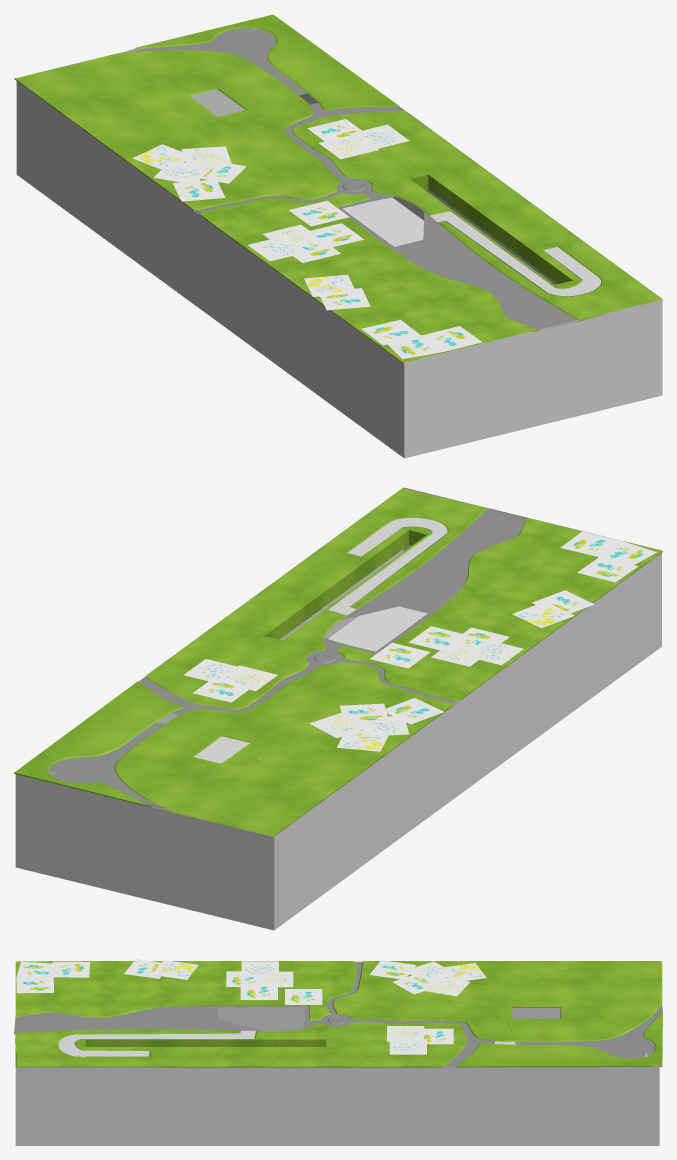
Rendered from Coaster1Ground.FBX.
3 renders of one model, top to bottom at view 1: azimuth 30°, elevation 25°; view 2: azimuth 150°, elevation 25°; view 3: azimuth 270°, elevation 25°, orthographic. The views are drawn at different scales.
Parts seen in each view (by area): view 1: clipping box, Grass3_1, Grass2_1, Grass1_1, MainPath001, Grass4_1, Grass1PondCover, Grass3RiverCover, SmallPath, Flowers1_08, Flowers1_02, Flowers1_05 (+15 smaller); view 2: clipping box, Grass3_1, Grass2_1, Grass1_1, MainPath001, Grass4_1, Grass1PondCover, Grass3RiverCover, SmallPath, Flowers1_02, Flowers1_013, Flowers1_05 (+16 smaller); view 3: clipping box, Grass3_1, Grass2_1, Grass1_1, MainPath001, Grass4_1, Grass1PondCover, Grass3RiverCover, SmallPath, Flowers1_02, Flowers1_09, Flowers1_017 (+17 smaller).
Part boxes in pixels (left/top/right/bottom): clipping box: left=16, top=28, right=662, bottom=458; Grass3_1: left=14, top=50, right=340, bottom=210; Grass2_1: left=291, top=111, right=662, bottom=320; Grass1_1: left=199, top=193, right=538, bottom=363; MainPath001: left=121, top=28, right=582, bottom=329; Grass4_1: left=135, top=14, right=398, bottom=110; Grass1PondCover: left=359, top=269, right=500, bottom=326; Grass3RiverCover: left=70, top=95, right=308, bottom=130; SmallPath: left=430, top=211, right=601, bottom=296; Flowers1_08: left=132, top=144, right=194, bottom=170; Flowers1_02: left=304, top=274, right=356, bottom=296; Flowers1_05: left=289, top=200, right=349, bottom=226; clipping box: left=15, top=487, right=661, bottom=930; Grass3_1: left=114, top=661, right=454, bottom=836; Grass2_1: left=145, top=488, right=487, bottom=709; Grass1_1: left=335, top=518, right=662, bottom=701; MainPath001: left=48, top=509, right=526, bottom=811; Grass4_1: left=14, top=681, right=184, bottom=807; Grass1PondCover: left=467, top=541, right=577, bottom=611; Grass3RiverCover: left=167, top=715, right=340, bottom=795; SmallPath: left=328, top=518, right=447, bottom=615; Flowers1_02: left=512, top=601, right=574, bottom=628; Flowers1_013: left=463, top=639, right=523, bottom=665; Flowers1_05: left=370, top=642, right=430, bottom=668; clipping box: left=15, top=961, right=659, bottom=1145; Grass3_1: left=332, top=961, right=662, bottom=1041; Grass2_1: left=15, top=1021, right=467, bottom=1067; Grass1_1: left=15, top=961, right=356, bottom=1020; MainPath001: left=14, top=962, right=662, bottom=1067; Grass4_1: left=455, top=1011, right=662, bottom=1067; Grass1PondCover: left=56, top=978, right=188, bottom=1017; Grass3RiverCover: left=484, top=961, right=571, bottom=1041; SmallPath: left=58, top=1030, right=255, bottom=1056; Flowers1_02: left=152, top=960, right=198, bottom=979; Flowers1_09: left=369, top=960, right=415, bottom=979; Flowers1_017: left=16, top=961, right=57, bottom=979.
Bounding box in the file's own units: 214 × 75.02 × 548.
